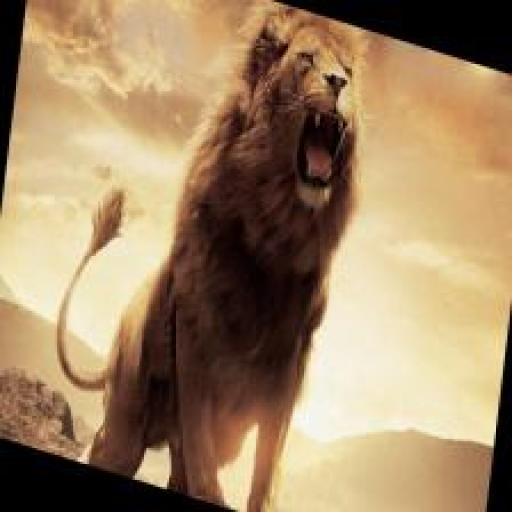lion: (41, 0, 386, 511)
